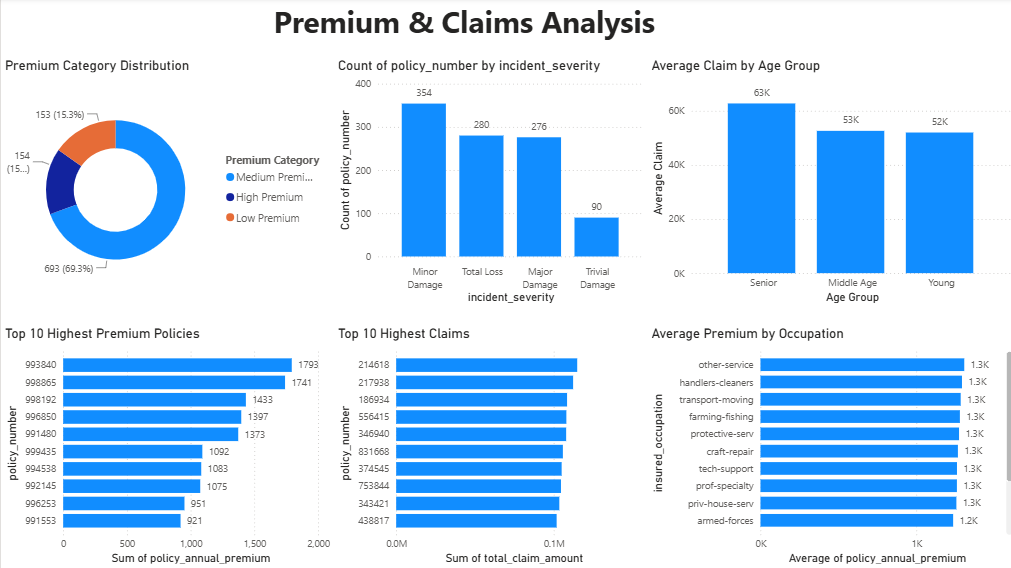

The page's visual inventory and layout, read from the dashboard file:
{"tool":"powerbi","page":{"name":"Premium and Claim analysis","canvas":[1280,720],"ordinal":2},"visuals":[{"type":"donutChart","title":"Premium Category Distribution","fields":{"Category":["Auto Claims.Premium Category"],"Y":["CountNonNull(Auto Claims.policy_number)"]},"box":[0,75.8,420,315],"z":0},{"type":"clusteredBarChart","title":"Top 10 Highest Premium Policies","fields":{"Category":["Auto Claims.policy_number"],"Y":["Sum(Auto Claims.policy_annual_premium)"]},"box":[0,414.1,420,305.3],"z":1000},{"type":"clusteredColumnChart","fields":{"Category":["Auto Claims.incident_severity"],"Y":["CountNonNull(Auto Claims.policy_number)"]},"box":[420,75.8,394.7,315],"z":2000},{"type":"clusteredColumnChart","fields":{"Category":["Auto Claims.Age Group"],"Y":["Auto Claims.Average Claim"]},"box":[814.7,75.8,464.7,315],"z":3000},{"type":"clusteredBarChart","title":"Top 10 Highest Claims","fields":{"Category":["Auto Claims.policy_number"],"Y":["Sum(Auto Claims.total_claim_amount)"]},"box":[420,414.1,394.7,305.3],"z":4000},{"type":"clusteredBarChart","title":"Average Premium by Occupation","fields":{"Category":["Auto Claims.insured_occupation"],"Y":["Avg(Auto Claims.policy_annual_premium)"]},"box":[814.7,414.1,464.7,305.3],"z":5000},{"type":"textbox","box":[338.3,0,560,60.3],"z":6000}]}

Visuals, with their boxes in screenshot pixels (x1, y1, x2, y2), scaled from the page's 1280x720 canvas onto the 1011x568 screenshot:
"Premium Category Distribution" donutChart: [left=0, top=60, right=332, bottom=308]
"Top 10 Highest Premium Policies" clusteredBarChart: [left=0, top=327, right=332, bottom=567]
clusteredColumnChart - Auto Claims.incident_severity x CountNonNull(Auto Claims.policy_number): [left=332, top=60, right=643, bottom=308]
clusteredColumnChart - Auto Claims.Age Group x Auto Claims.Average Claim: [left=643, top=60, right=1010, bottom=308]
"Top 10 Highest Claims" clusteredBarChart: [left=332, top=327, right=643, bottom=567]
"Average Premium by Occupation" clusteredBarChart: [left=643, top=327, right=1010, bottom=567]
textbox: [left=267, top=0, right=710, bottom=48]
